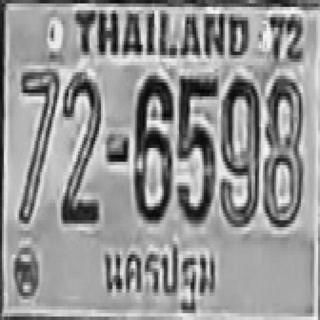N02: (60, 72, 100, 220)
N05: (175, 74, 217, 222)
N06: (134, 72, 172, 220)
N07: (17, 67, 59, 222)
N08: (262, 74, 304, 226)
N09: (219, 72, 259, 224)
P28: (98, 238, 218, 313)
